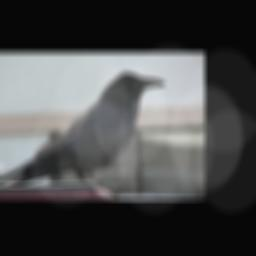Crow: (0, 72, 166, 197)
